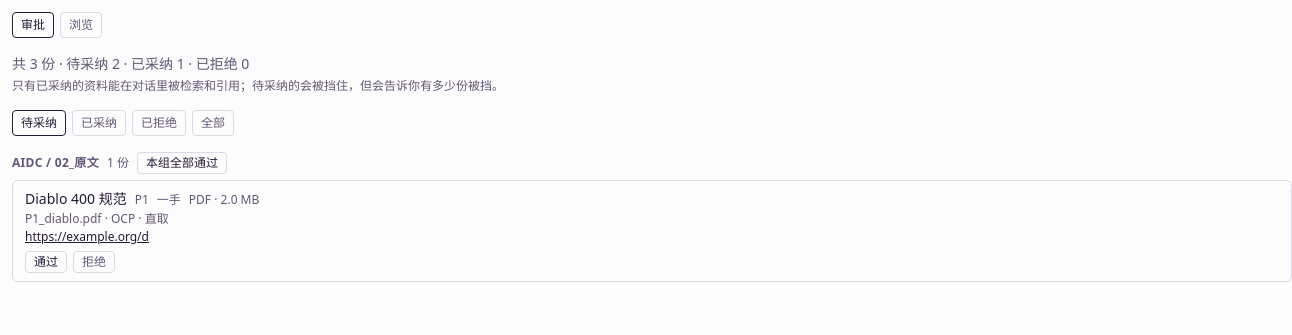
Test case: TEST-410 资料库审批面板 (REQ-F-220) › ⑤ 裁定失败把服务端的原话说出来，不是一句「出错了」
Click the button "通过". click: (46, 262)
box: [25, 251, 67, 273]
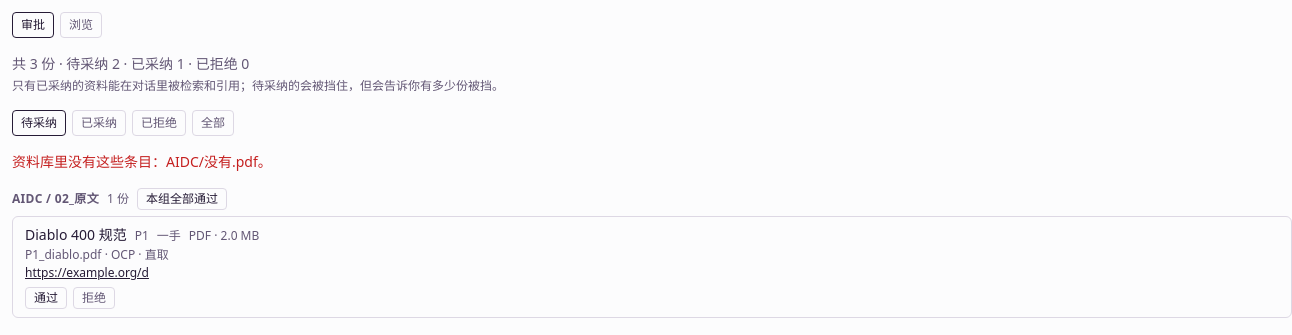
Expected: the message shows "资料库里没有这些条目", [12, 152, 272, 171]
